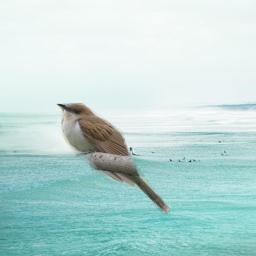Cuckoo: (56, 103, 170, 214)
